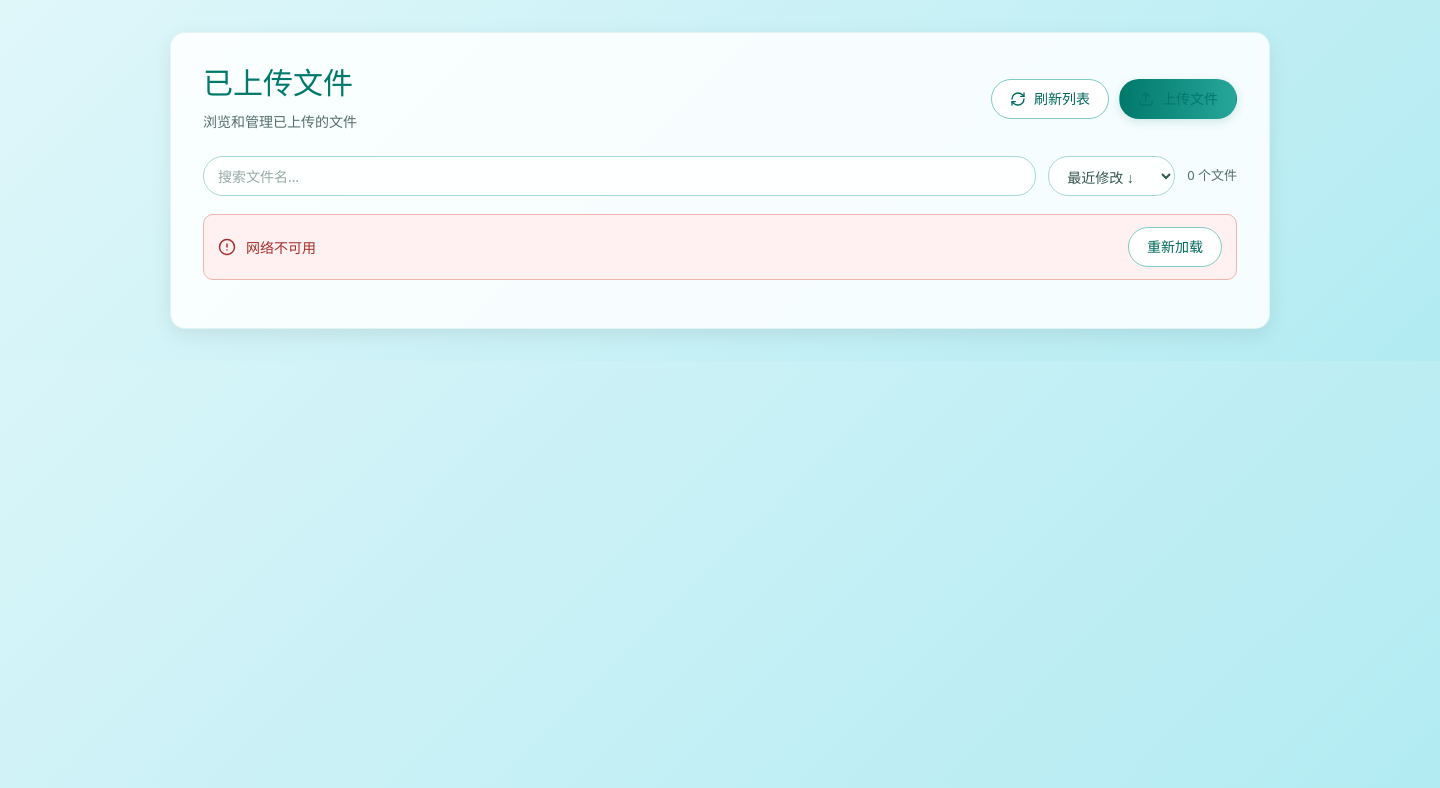
Test: shows load errors with a working retry and distinguishes empty search results
Expected: the message shows "网络不可用", [246,238,316,256]
Click the button "重新加载".
click(1175, 247)  # box [1128,227,1222,267]
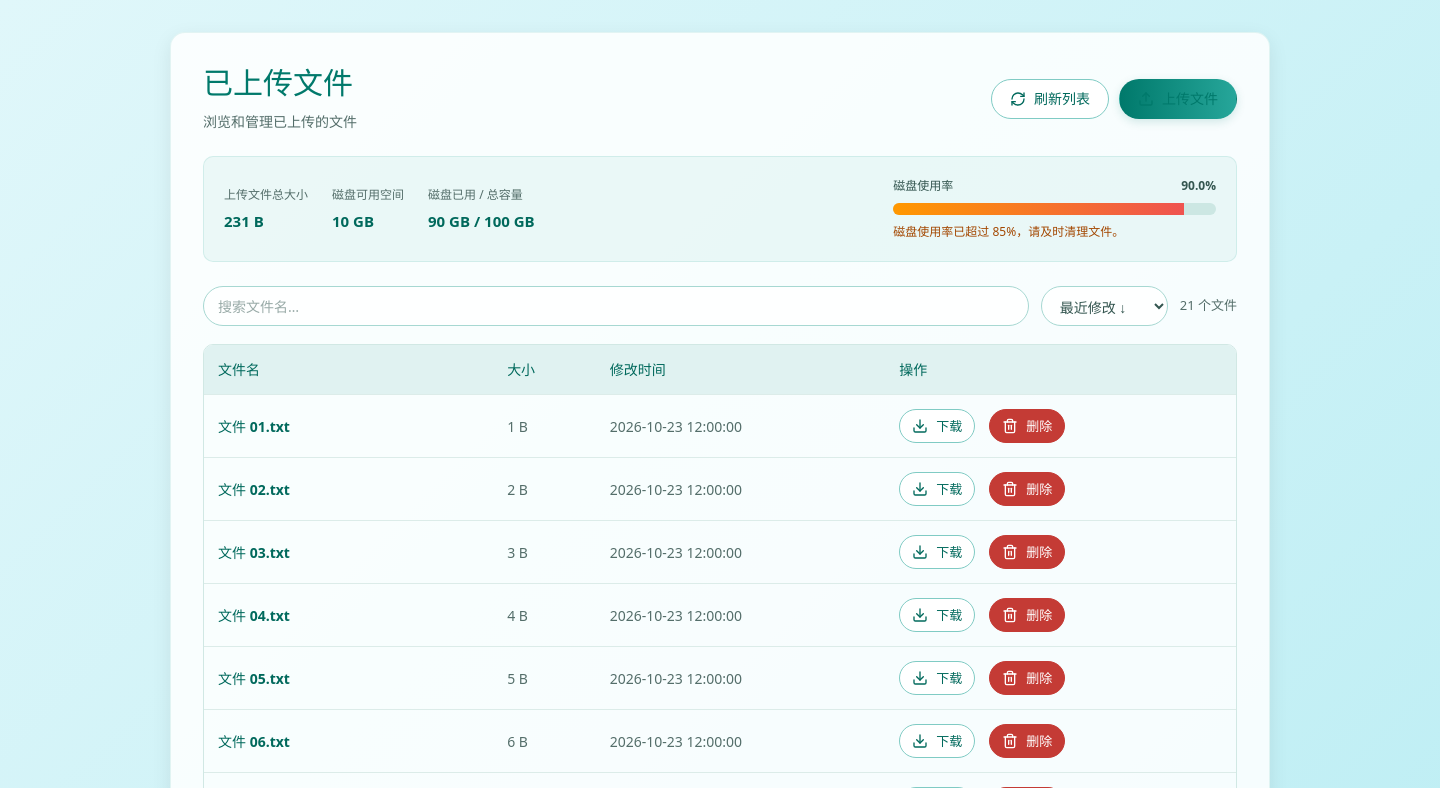
Expected: the text "文件 01.txt" is shown, [204,394,493,458]
Type "missing" into the search field.
click(616, 306); type("missing")  # box [203,286,1029,326]
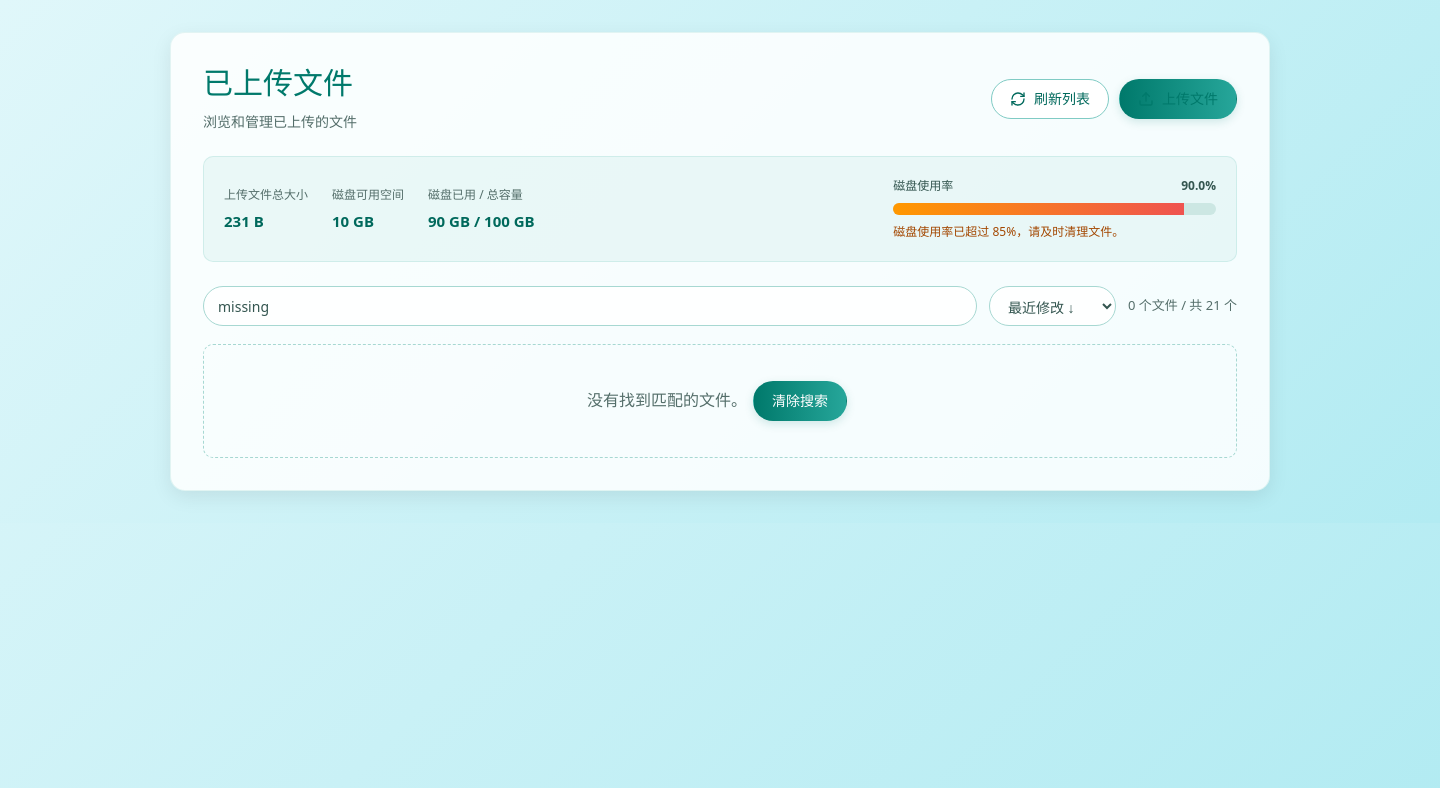
Expected: the text "没有找到匹配的文件。" is shown, [587,389,747,411]
Click the button "清除搜索".
click(800, 401)  # box [753,381,847,421]
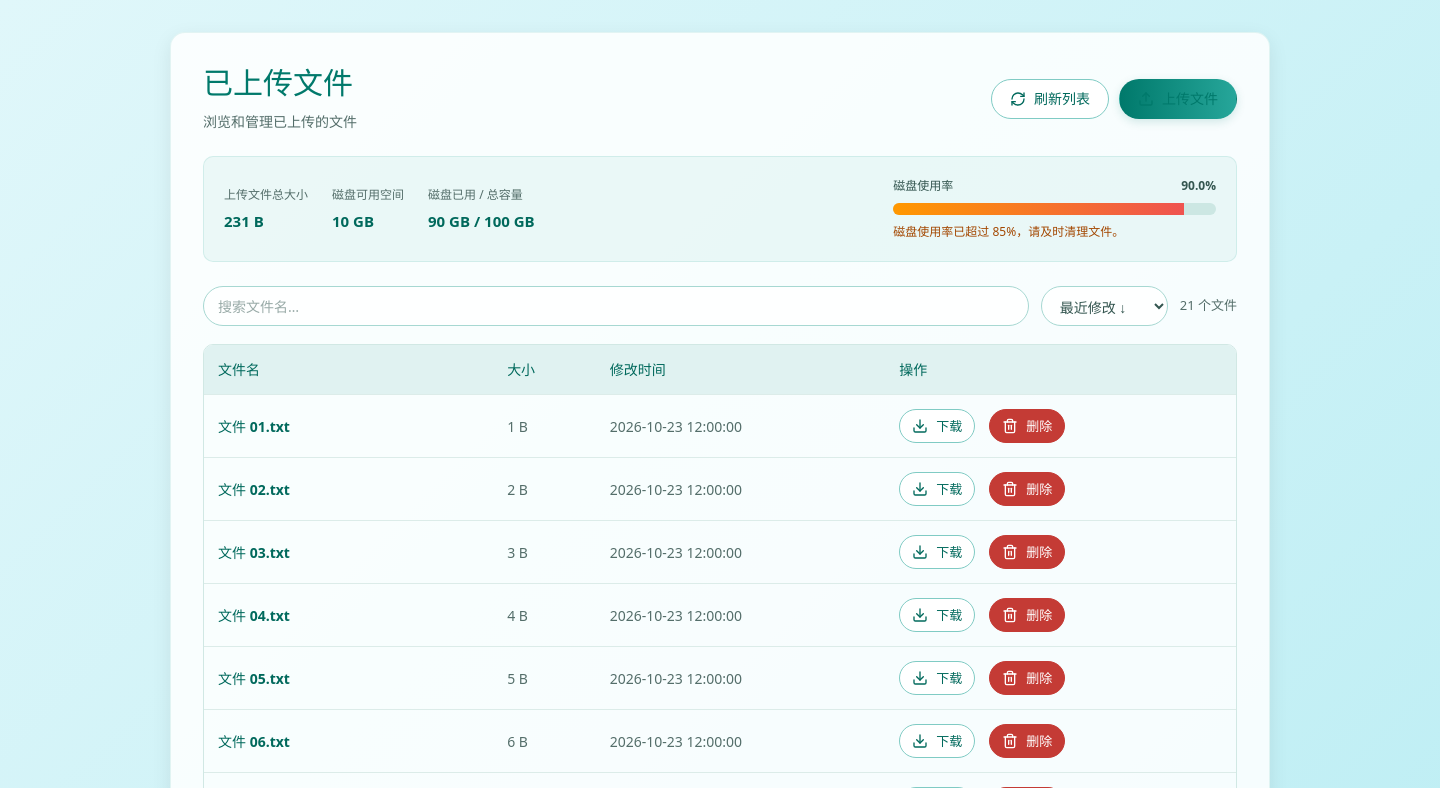
Expected: the text "文件 01.txt" is shown, [204,394,493,458]
